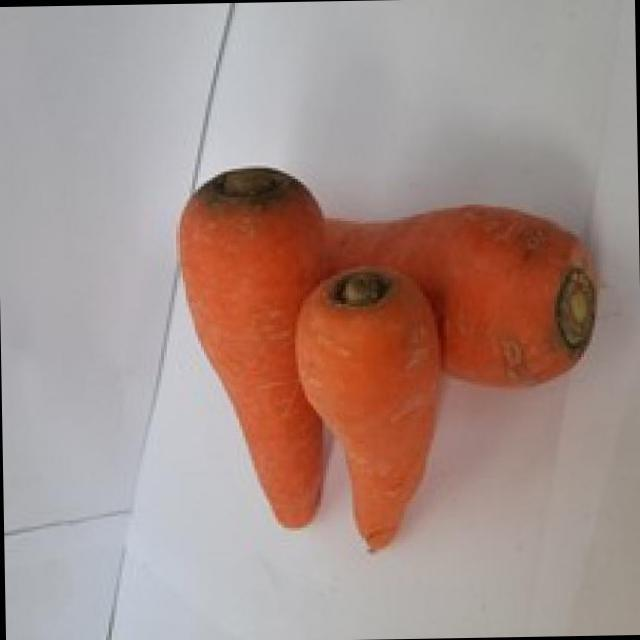carrot: (292, 192, 610, 397), (171, 155, 321, 540), (285, 257, 447, 555)
